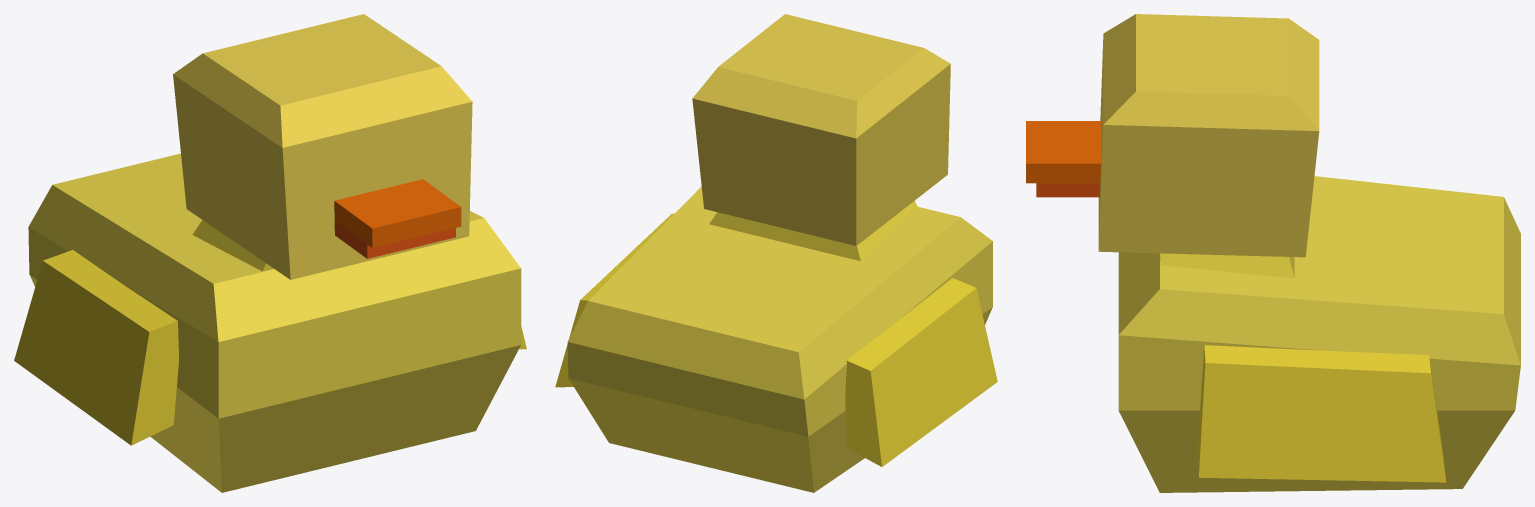
Rendered from Duck1.fbx.
The picture shows the model from 3 angles, left to right: view 1: azimuth 30°, elevation 25°; view 2: azimuth 150°, elevation 25°; view 3: azimuth 270°, elevation 25°; orthographic projection. The views are drawn at different scales.
Parts seen in each view (by area): view 1: Cube, 立方体.002, 立方体, 立方体.003, 立方体.004, 立方体.001; view 2: Cube, 立方体.002, 立方体, 立方体.001; view 3: Cube, 立方体.002, 立方体, 立方体.003, 立方体.001, 立方体.004.
Boxes of the visible parts, x1=… form: Cube: x1=28, y1=153, x2=521, y2=492; 立方体.002: x1=173, y1=14, x2=472, y2=279; 立方体: x1=14, y1=250, x2=526, y2=445; 立方体.003: x1=334, y1=179, x2=461, y2=248; 立方体.004: x1=334, y1=220, x2=455, y2=258; 立方体.001: x1=192, y1=220, x2=273, y2=271; Cube: x1=567, y1=186, x2=992, y2=492; 立方体.002: x1=692, y1=14, x2=950, y2=245; 立方体: x1=555, y1=213, x2=997, y2=466; 立方体.001: x1=709, y1=200, x2=917, y2=261; Cube: x1=1118, y1=176, x2=1520, y2=492; 立方体.002: x1=1098, y1=14, x2=1319, y2=257; 立方体: x1=1197, y1=345, x2=1446, y2=482; 立方体.003: x1=1026, y1=121, x2=1100, y2=183; 立方体.001: x1=1160, y1=253, x2=1294, y2=278; 立方体.004: x1=1036, y1=182, x2=1100, y2=197.
Size of the model in its own units: 261 by 243 by 287.
